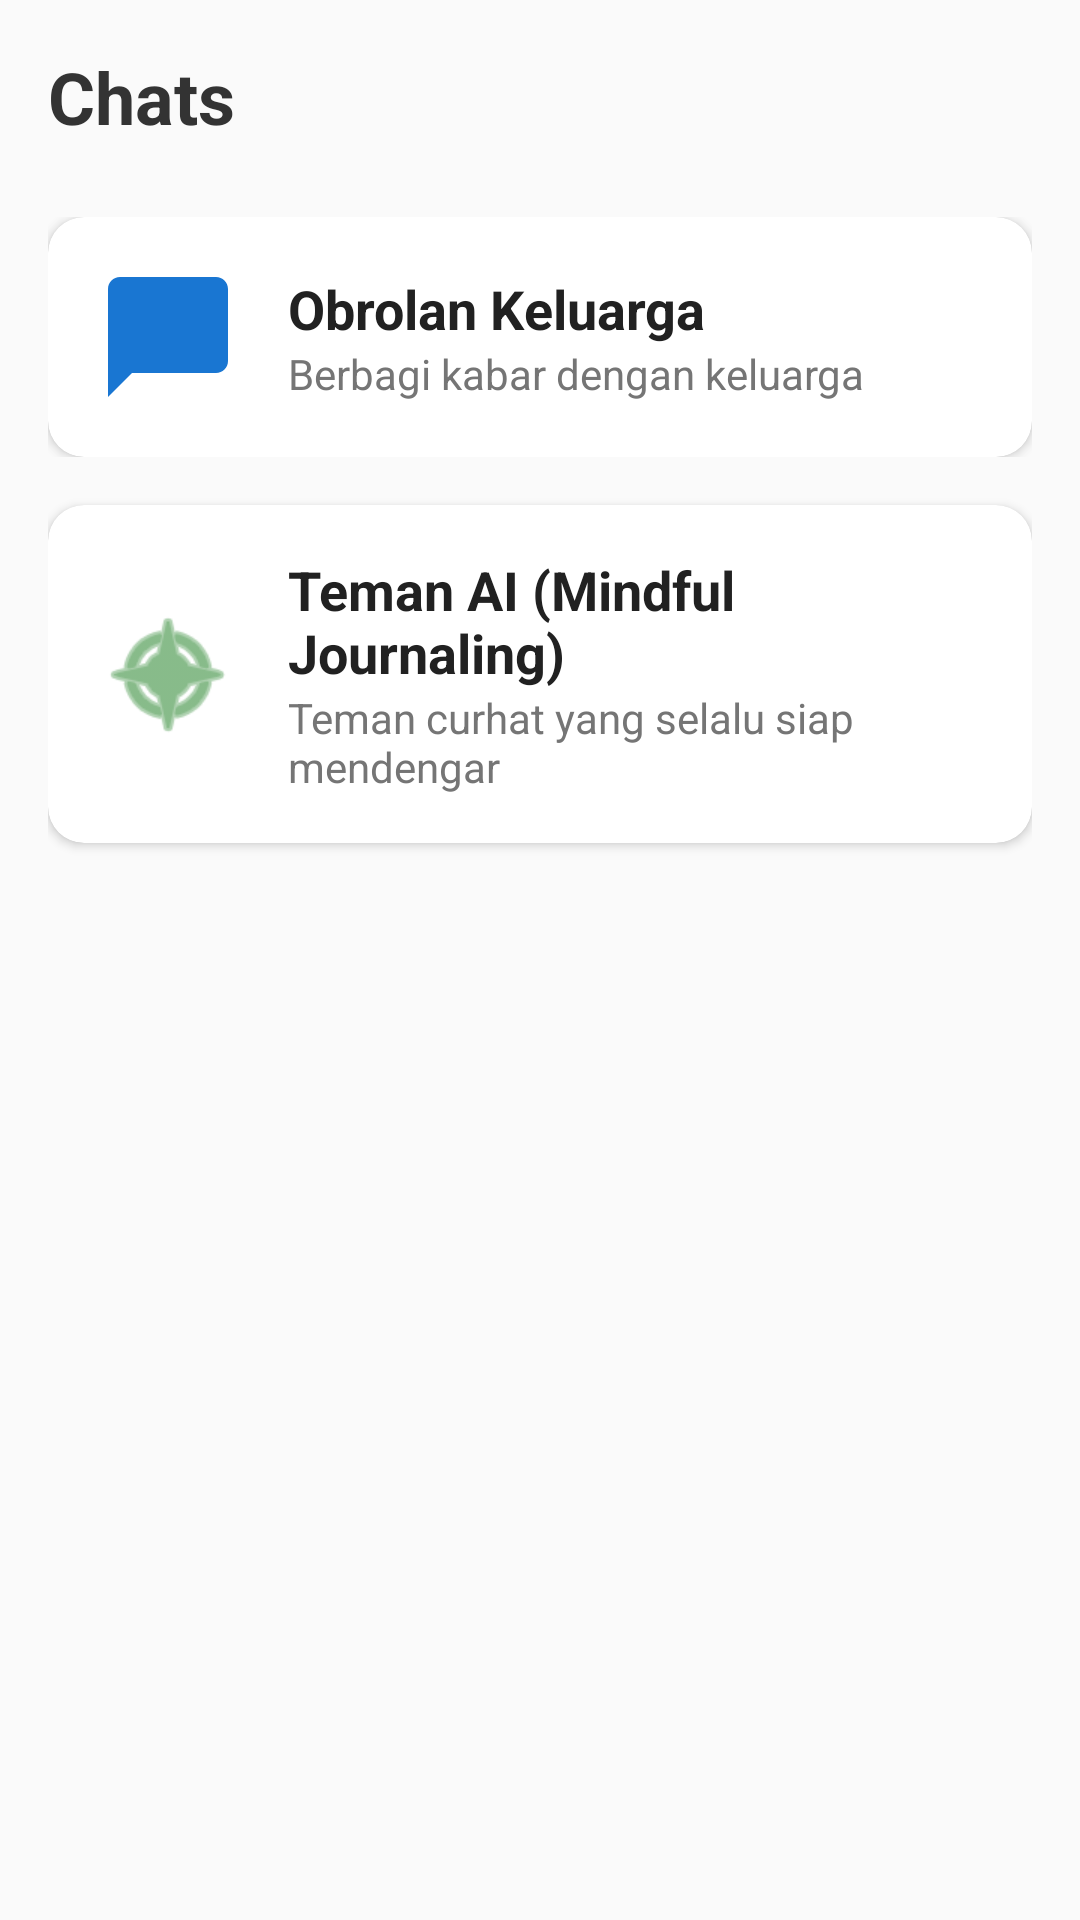

Where to tap for icons on this 1080 × 1920 app screen, as point (x, y):
compass: point (167, 674)
